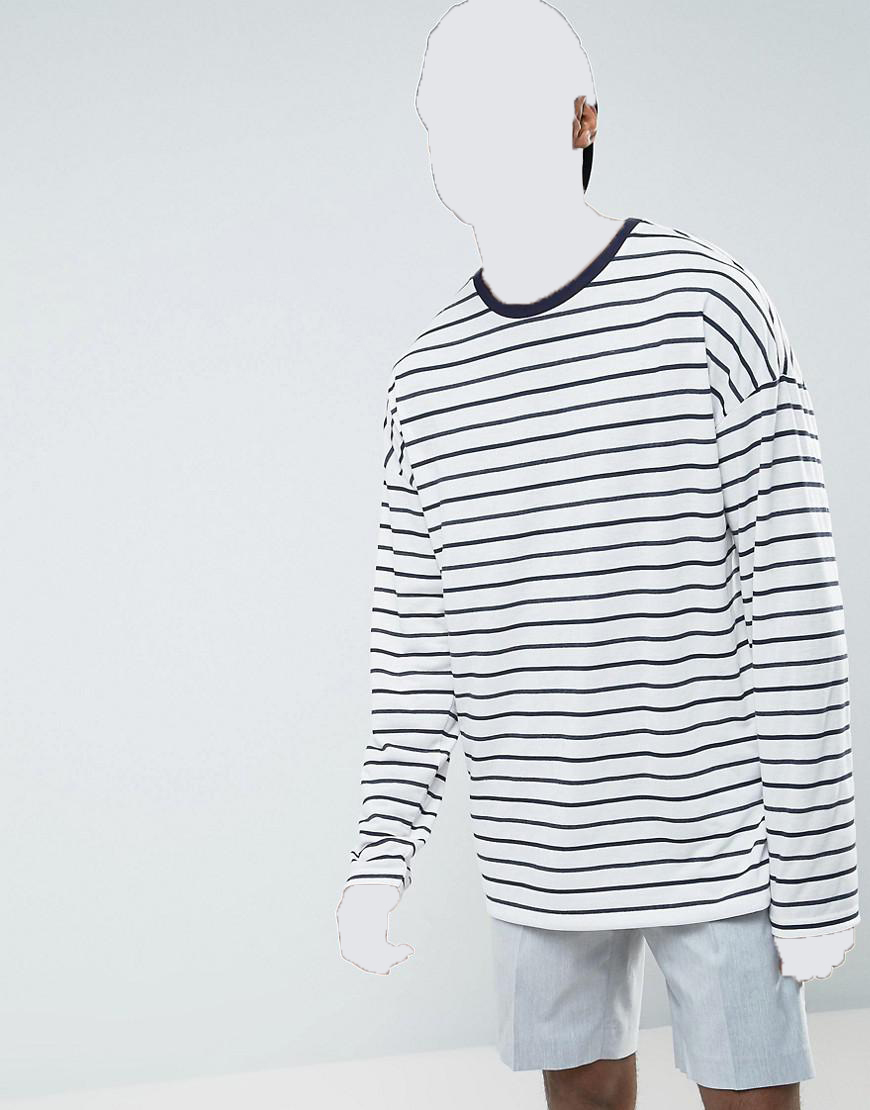teeshirt: (346, 218, 870, 931)
